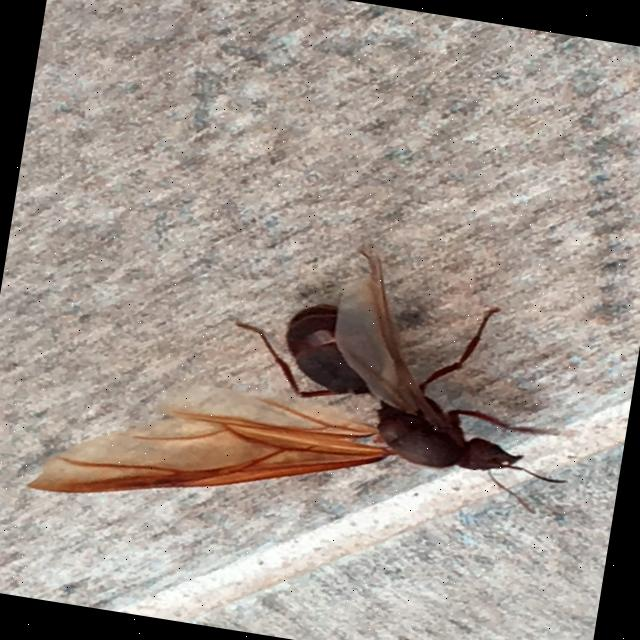Alive-Female-Alate: (26, 205, 599, 572)
